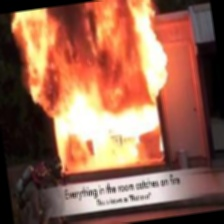fire: (2, 0, 197, 187)
